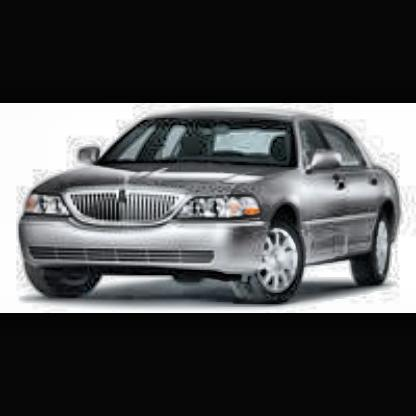Lincoln Town Car Sedan 2011: (16, 110, 404, 313)
